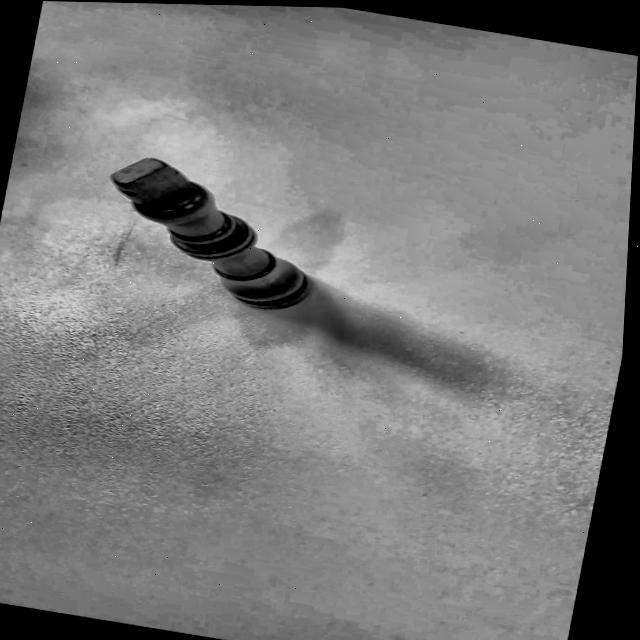black-king: (79, 147, 346, 325)
